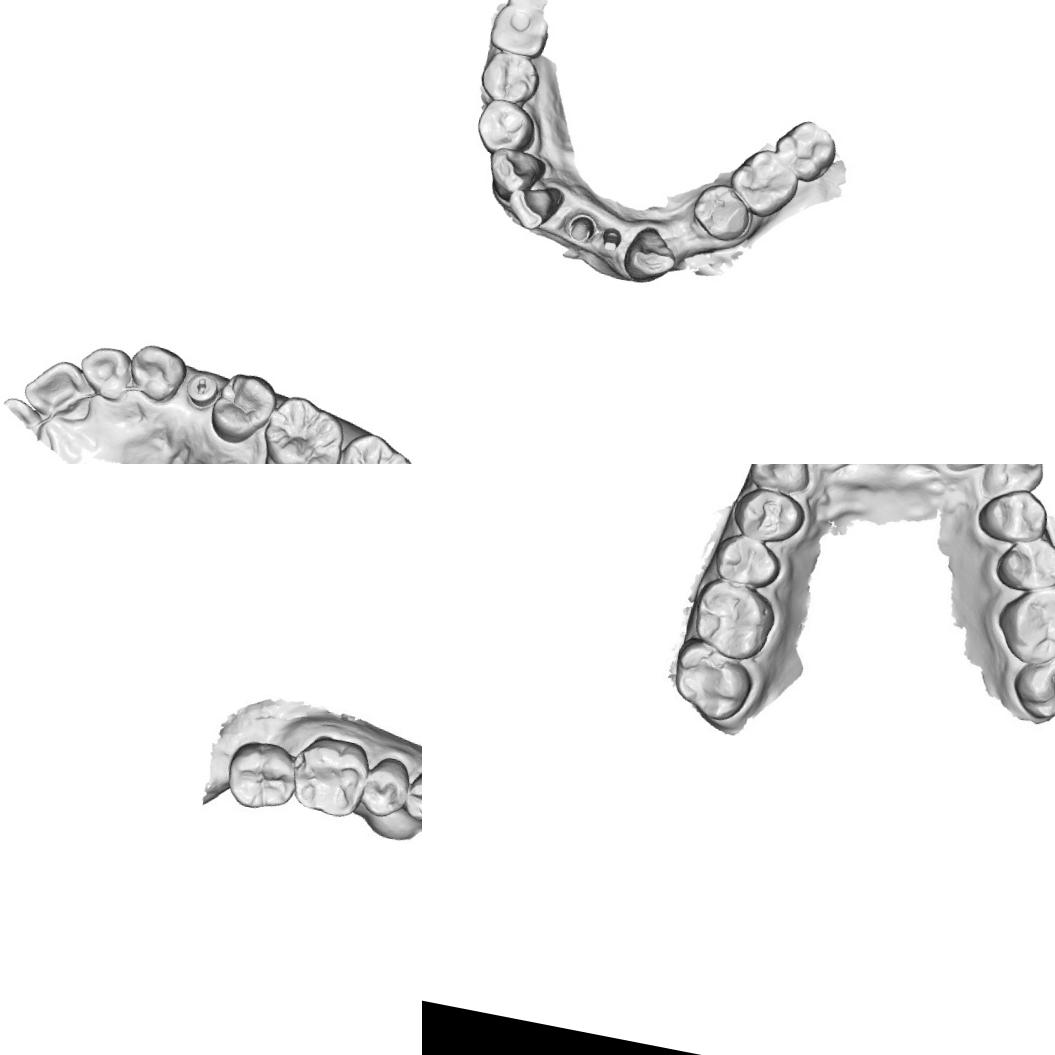abutment: (564, 209, 598, 246), (598, 224, 623, 254)
canine: (122, 336, 190, 408), (620, 221, 682, 287), (483, 144, 547, 206), (981, 464, 1048, 496), (748, 464, 816, 491)
implant_minus: (181, 366, 223, 412)
incisor: (16, 352, 100, 429), (72, 340, 137, 405), (503, 178, 566, 234), (941, 464, 999, 482)
molar: (666, 639, 757, 728), (284, 729, 370, 821), (688, 576, 777, 660), (252, 388, 350, 464), (723, 142, 803, 223), (227, 742, 302, 815), (994, 577, 1055, 665), (768, 114, 840, 186), (486, 0, 553, 60), (324, 427, 422, 464), (1013, 644, 1055, 725)
premolar: (204, 365, 280, 451), (730, 483, 810, 548), (976, 485, 1053, 546), (712, 530, 790, 588), (688, 178, 756, 244), (470, 95, 538, 161), (476, 47, 543, 108), (997, 535, 1055, 594), (355, 760, 406, 812), (401, 765, 422, 821)
